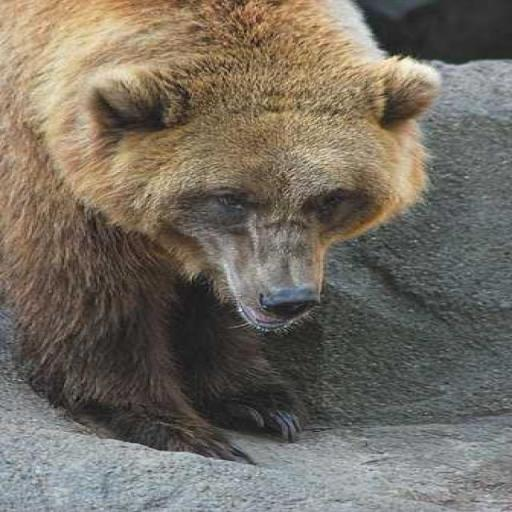Bear: (0, 0, 442, 465)
